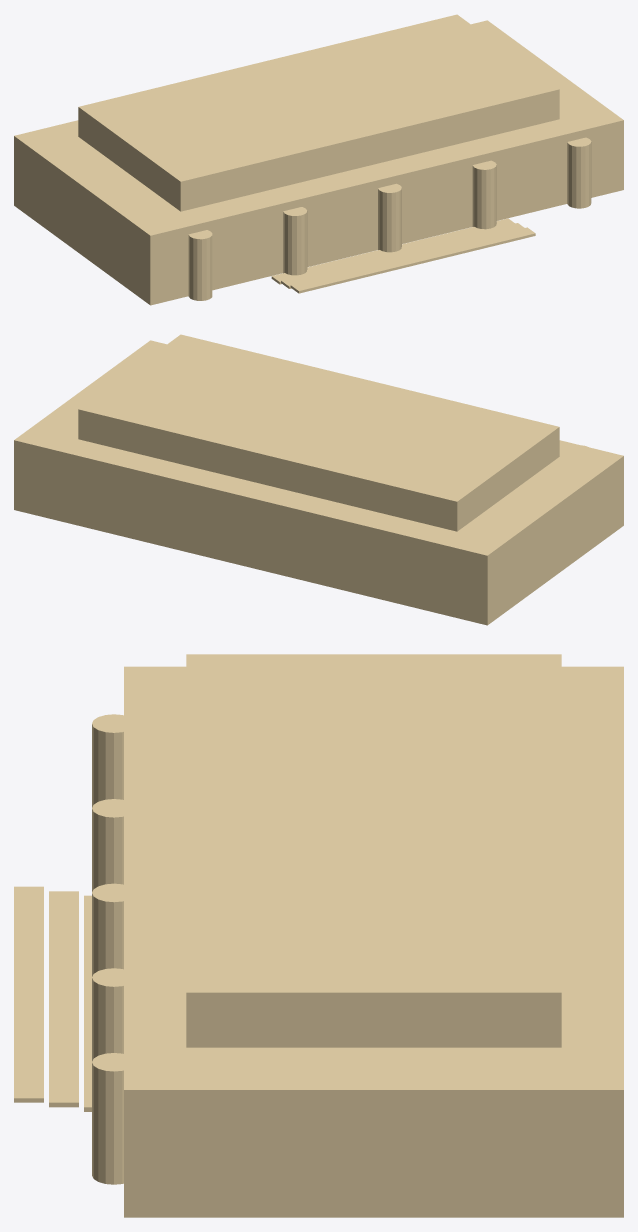
The model's file is juris_guard_center.glb.
3 views of the same model, one above another, from view 1: azimuth 30°, elevation 25°; view 2: azimuth 150°, elevation 25°; view 3: azimuth 270°, elevation 25° (orthographic). The views are drawn at different scales.
Visible parts, largest first — view 1: juris_guard_center; view 2: juris_guard_center; view 3: juris_guard_center.
Part boxes in pixels (bbox=[...]): juris_guard_center: bbox=[14, 14, 623, 305]; juris_guard_center: bbox=[14, 334, 623, 625]; juris_guard_center: bbox=[14, 654, 623, 1217].
Bounding box in the file's own units: 67.1 × 13.5 × 40.87.
